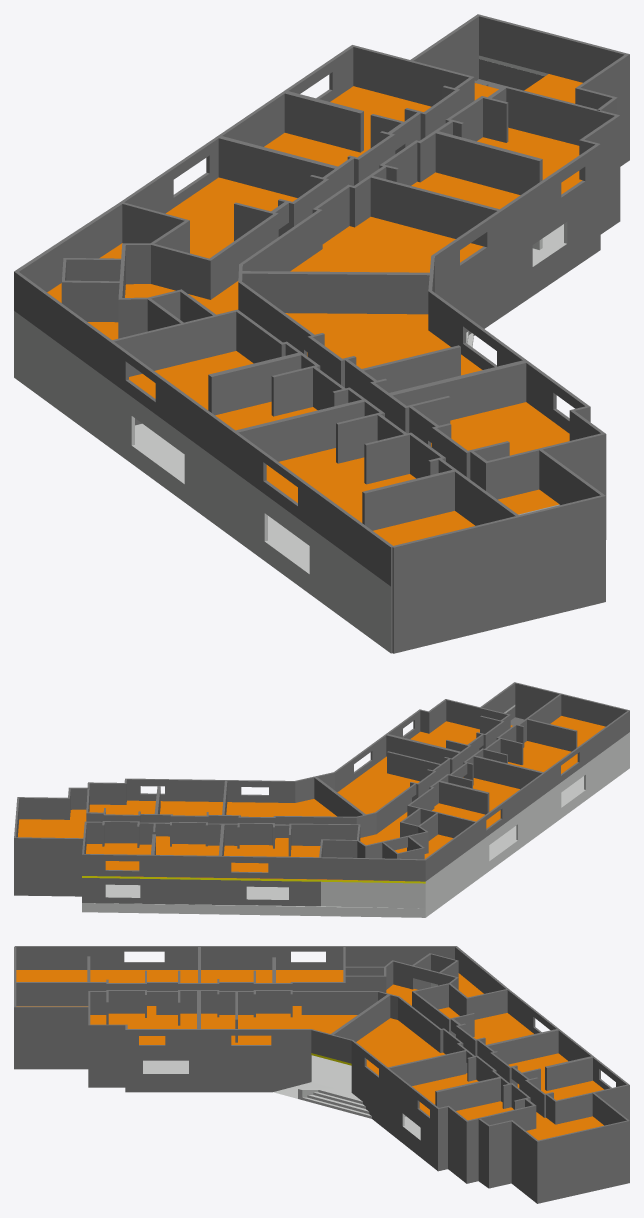
The model's file is hotel.dae.
3 views of the same model, one above another, from view 1: azimuth 30°, elevation 25°; view 2: azimuth 150°, elevation 25°; view 3: azimuth 270°, elevation 25° (orthographic). The views are drawn at different scales.
Parts seen in each view (by area): view 1: 5fb616b444d9c3192894ada6 (×3); view 2: 5fb616b444d9c3192894ada6 (×3); view 3: 5fb616b444d9c3192894ada6 (×3).
Boxes of the visible parts, left/top/right/bottom form: 5fb616b444d9c3192894ada6 (×3): left=14, top=14, right=629, bottom=653; 5fb616b444d9c3192894ada6 (×3): left=14, top=682, right=629, bottom=917; 5fb616b444d9c3192894ada6 (×3): left=14, top=946, right=629, bottom=1203.
Bounding box in the file's own units: 50.31 × 66.9 × 7.45.
